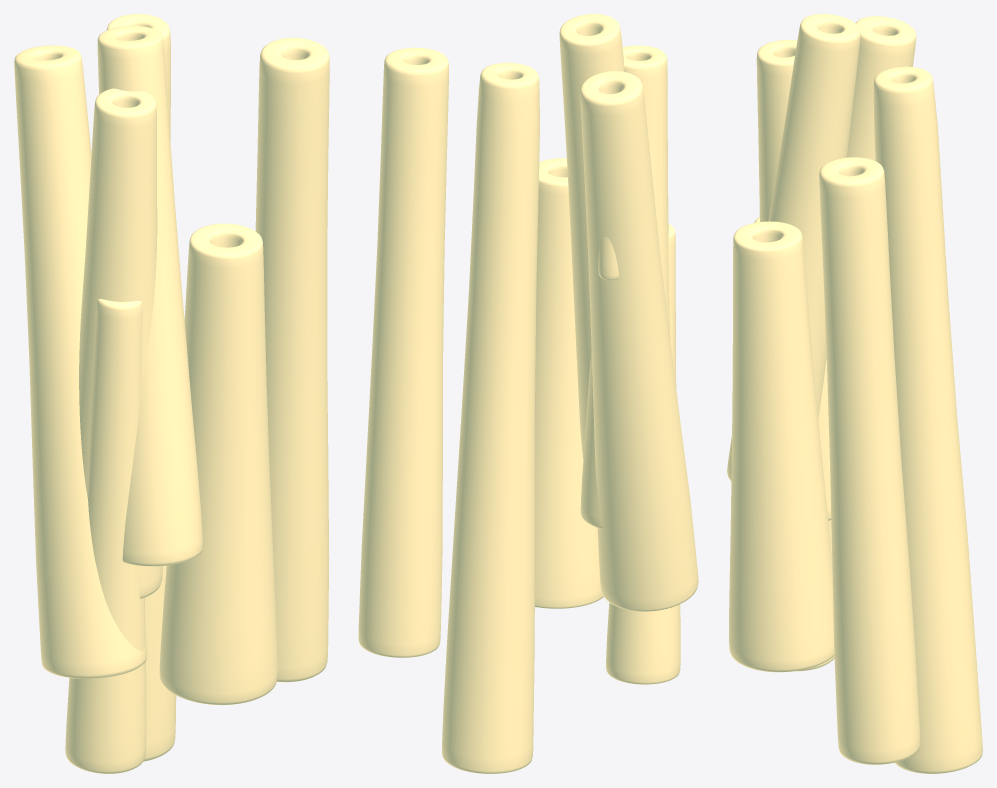
File: sponge-tube-orange-01.glb
The picture shows the model from 3 angles, left to right: view 1: azimuth 30°, elevation 25°; view 2: azimuth 150°, elevation 25°; view 3: azimuth 270°, elevation 25°; orthographic projection. The views are drawn at different scales.
Parts seen in each view (by area): view 1: sponge-tube-orange-01.tube2, sponge-tube-orange-01.tube0, sponge-tube-orange-01.tube5, sponge-tube-orange-01.tube1, sponge-tube-orange-01.tube6, sponge-tube-orange-01.tube3, sponge-tube-orange-01.tube4; view 2: sponge-tube-orange-01.tube4, sponge-tube-orange-01.tube0, sponge-tube-orange-01.tube5, sponge-tube-orange-01.tube2, sponge-tube-orange-01.tube1, sponge-tube-orange-01.tube3, sponge-tube-orange-01.tube6; view 3: sponge-tube-orange-01.tube0, sponge-tube-orange-01.tube4, sponge-tube-orange-01.tube2, sponge-tube-orange-01.tube1, sponge-tube-orange-01.tube3, sponge-tube-orange-01.tube5.
Part boxes in pixels (<box>): sponge-tube-orange-01.tube2: <box>159,223,277,704</box>; sponge-tube-orange-01.tube0: <box>255,37,329,682</box>; sponge-tube-orange-01.tube5: <box>14,45,147,678</box>; sponge-tube-orange-01.tube1: <box>97,26,202,566</box>; sponge-tube-orange-01.tube6: <box>65,299,146,773</box>; sponge-tube-orange-01.tube3: <box>79,88,162,598</box>; sponge-tube-orange-01.tube4: <box>106,14,176,761</box>; sponge-tube-orange-01.tube4: <box>442,62,539,773</box>; sponge-tube-orange-01.tube0: <box>358,47,448,657</box>; sponge-tube-orange-01.tube5: <box>580,71,698,611</box>; sponge-tube-orange-01.tube2: <box>535,158,603,608</box>; sponge-tube-orange-01.tube1: <box>559,14,623,458</box>; sponge-tube-orange-01.tube3: <box>580,45,670,529</box>; sponge-tube-orange-01.tube6: <box>606,224,680,684</box>; sponge-tube-orange-01.tube0: <box>819,157,920,764</box>; sponge-tube-orange-01.tube4: <box>873,66,982,773</box>; sponge-tube-orange-01.tube2: <box>729,221,834,672</box>; sponge-tube-orange-01.tube1: <box>727,14,860,481</box>; sponge-tube-orange-01.tube3: <box>756,40,831,520</box>; sponge-tube-orange-01.tube5: <box>828,16,916,558</box>.
Size of the model in its own units: 1.11 by 2.59 by 0.8447.
